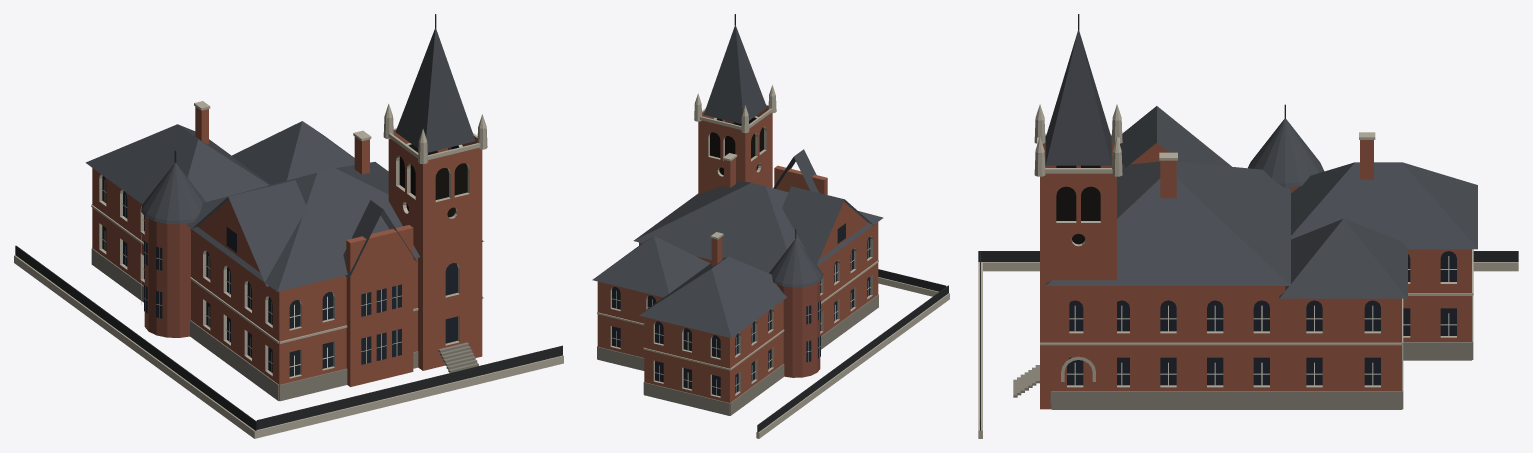
Rendered from peabody-school-1913.glb.
3 views of the same model, side by side, from view 1: azimuth 30°, elevation 25°; view 2: azimuth 150°, elevation 25°; view 3: azimuth 270°, elevation 25° (orthographic). The views are drawn at different scales.
Visible parts, largest first — view 1: peabody_brick, peabody_slate, peabody_stone, peabody_iron, peabody_glass, peabody_brick2, peabody_base, peabody_shadow, peabody_sash; view 2: peabody_slate, peabody_brick, peabody_stone, peabody_base, peabody_brick2, peabody_glass, peabody_iron, peabody_shadow, peabody_sash; view 3: peabody_slate, peabody_brick, peabody_base, peabody_glass, peabody_stone, peabody_shadow, peabody_iron, peabody_sash.
Part boxes in pixels (box(x1,y1,x2,y2)): peabody_brick: box(92, 106, 482, 386); peabody_slate: box(85, 28, 483, 291); peabody_stone: box(14, 101, 563, 438); peabody_iron: box(15, 14, 562, 430); peabody_glass: box(102, 175, 457, 376); peabody_brick2: box(144, 216, 190, 337); peabody_base: box(91, 248, 478, 401); peabody_shadow: box(399, 144, 467, 217); peabody_sash: box(101, 180, 401, 376); peabody_slate: box(592, 25, 883, 338); peabody_brick: box(597, 105, 878, 402); peabody_stone: box(597, 85, 949, 438); peabody_base: box(597, 294, 878, 415); peabody_brick2: box(776, 281, 820, 377); peabody_glass: box(612, 223, 870, 396); peabody_iron: box(734, 14, 948, 432); peabody_shadow: box(710, 117, 763, 175); peabody_sash: box(611, 240, 870, 395); peabody_slate: box(1045, 30, 1477, 298); peabody_brick: box(1040, 135, 1471, 409); peabody_base: box(1013, 295, 1473, 409); peabody_glass: box(1067, 251, 1456, 385); peabody_stone: box(978, 104, 1518, 438); peabody_shadow: box(1056, 165, 1100, 244); peabody_iron: box(978, 14, 1518, 430); peabody_sash: box(1067, 256, 1456, 385).
Size of the model in its own units: 34.4 by 35.8 by 46.3.
